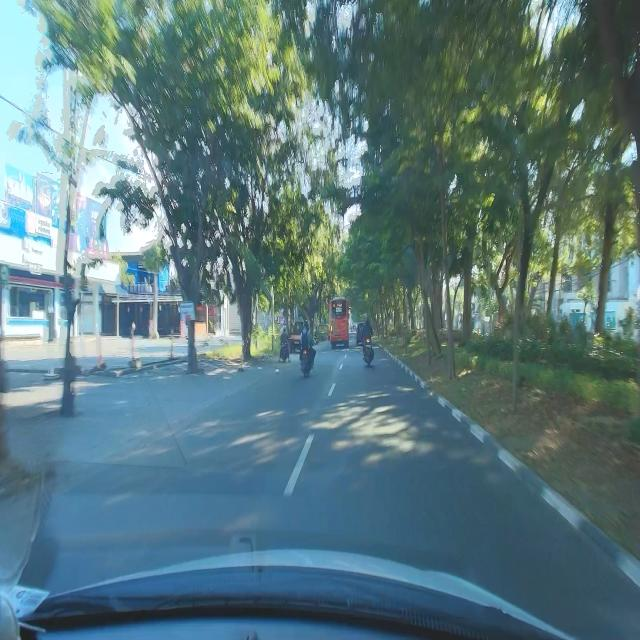bus: (329, 294, 350, 352)
